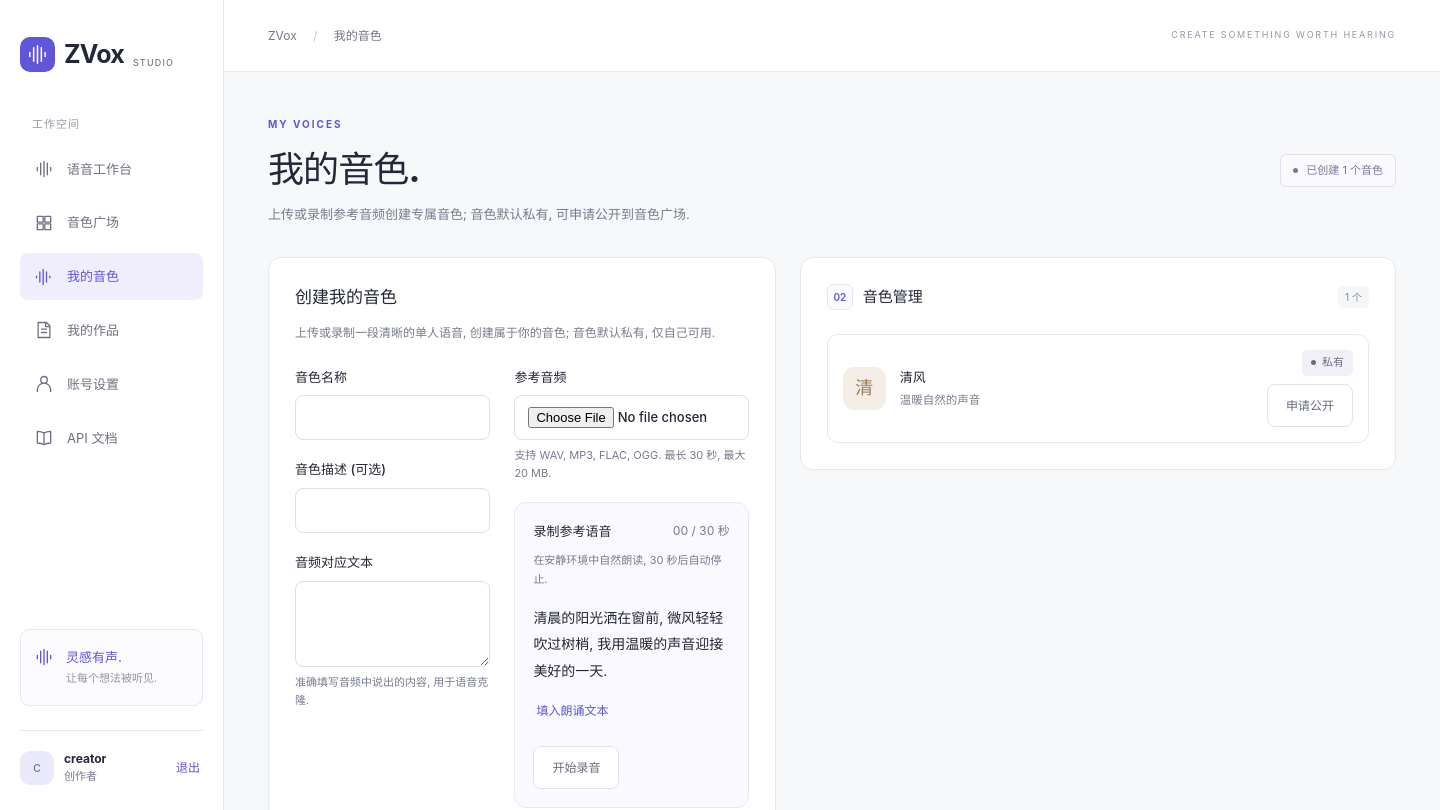
it: application flows › submits a private voice for plaza review and withdraws it after approval
Expected: the text "私有" is shown, [1302,350,1353,376]
Click the button "申请公开" at (1310,405), box [1267,384,1353,427]
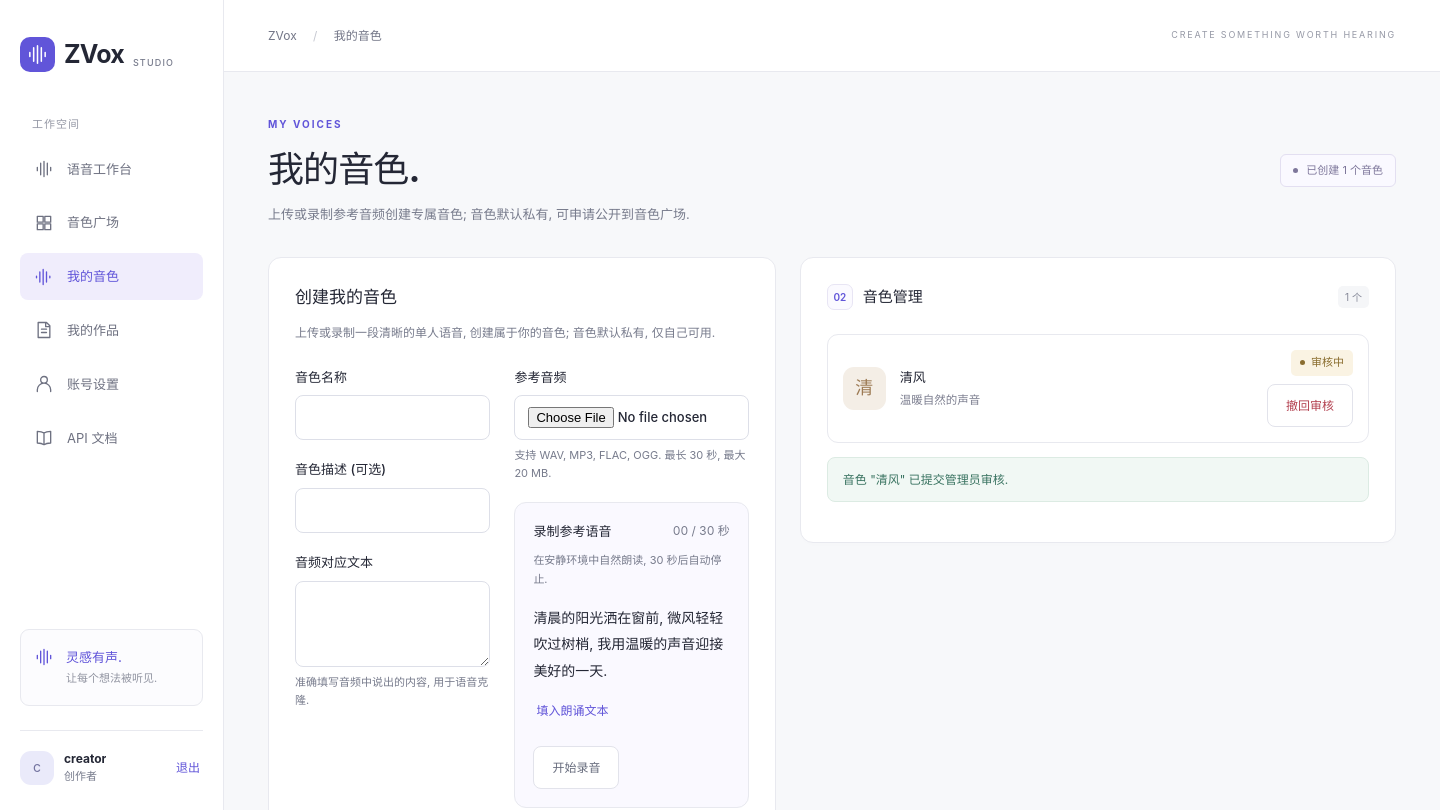
Now the text "审核中" is shown, box [1291,350,1353,376]
Click the button "撤回审核" at (1310,405), box [1267,384,1353,427]
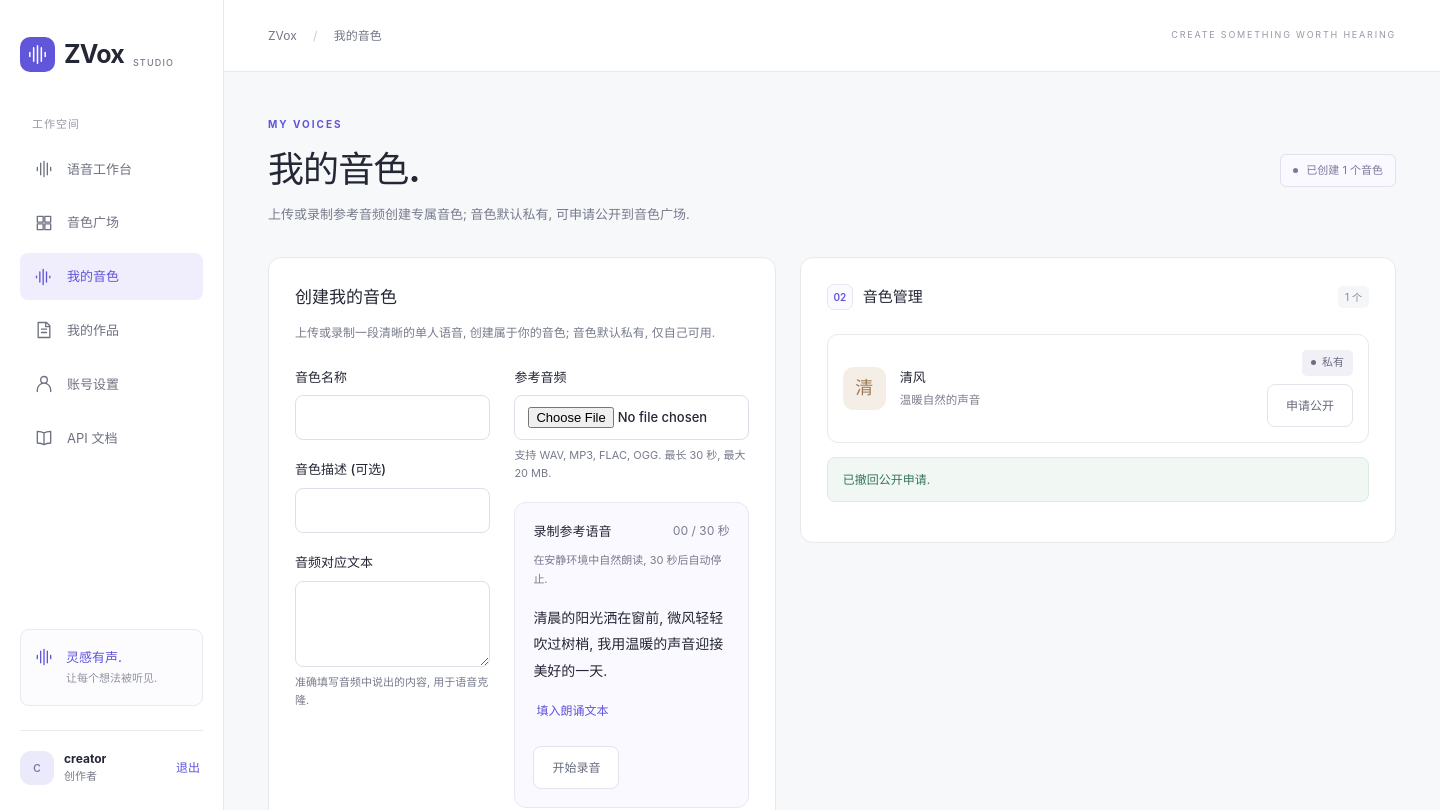
Now the text "已撤回公开申请." is shown, box [827,457,1369,502]
Now the text "私有" is shown, box [1302,350,1353,376]
